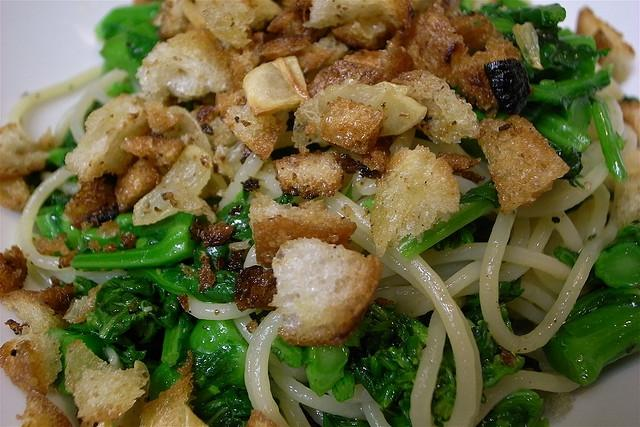broccoli: (458, 292, 548, 427), (49, 276, 166, 370), (343, 302, 428, 427), (542, 288, 640, 388), (188, 319, 249, 407), (528, 63, 613, 112), (193, 385, 254, 427), (161, 312, 195, 368), (509, 2, 566, 29), (553, 40, 596, 74)
